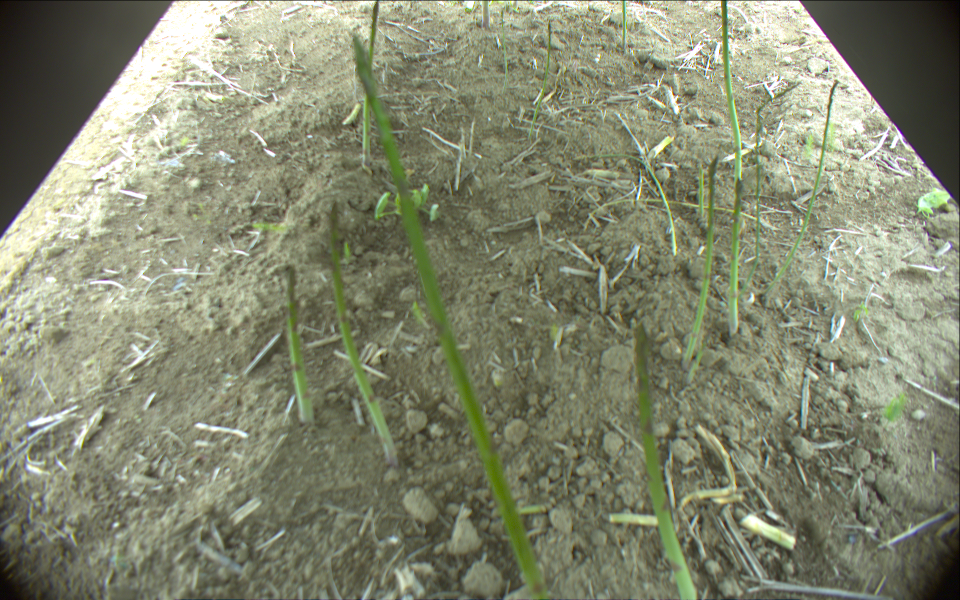aspa: (352, 32, 549, 600), (328, 199, 399, 468), (634, 322, 699, 600), (761, 80, 836, 300), (570, 153, 678, 255), (683, 154, 717, 365), (584, 198, 758, 234), (738, 103, 762, 296), (286, 269, 315, 423), (720, 1, 742, 184), (361, 1, 381, 164), (727, 180, 745, 335), (531, 20, 553, 138), (498, 8, 509, 93), (688, 337, 707, 384), (697, 164, 704, 217), (621, 1, 628, 48), (480, 1, 491, 30)
